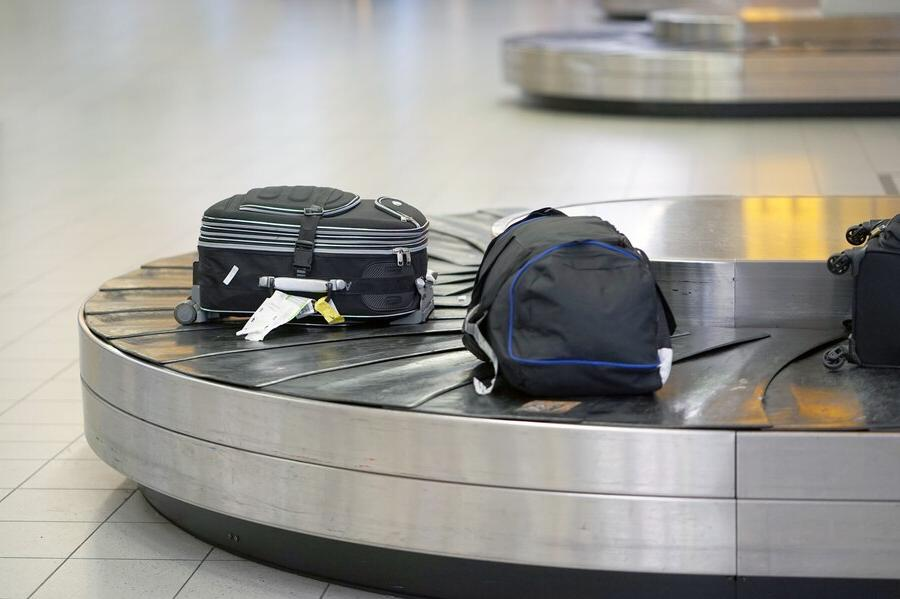baggage: (168, 172, 445, 347), (458, 206, 680, 408), (816, 197, 900, 408)
